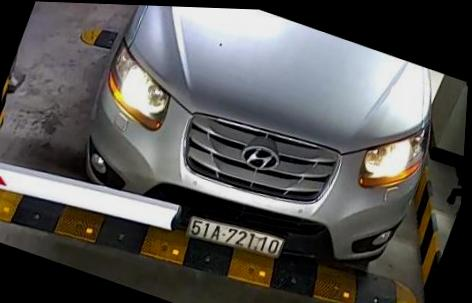License_Plate: (182, 209, 288, 264)
